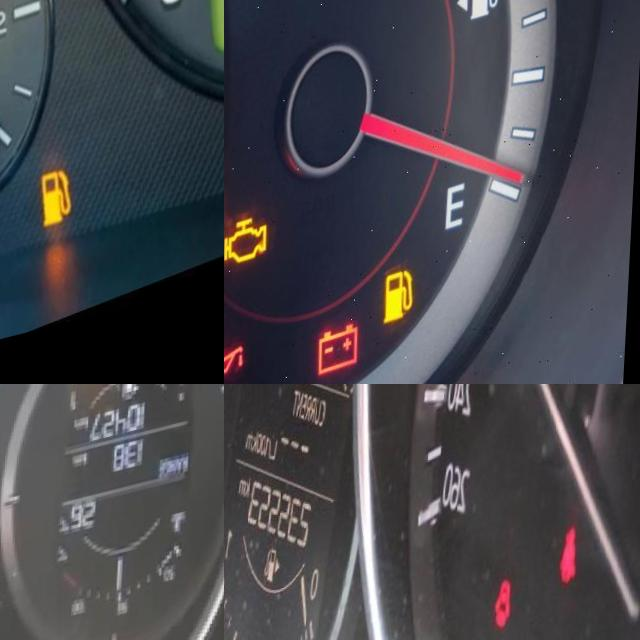Seat Belt: (562, 548, 585, 609)
